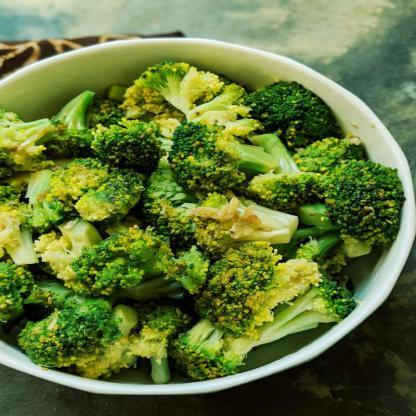broccoli: (0, 60, 405, 382)
